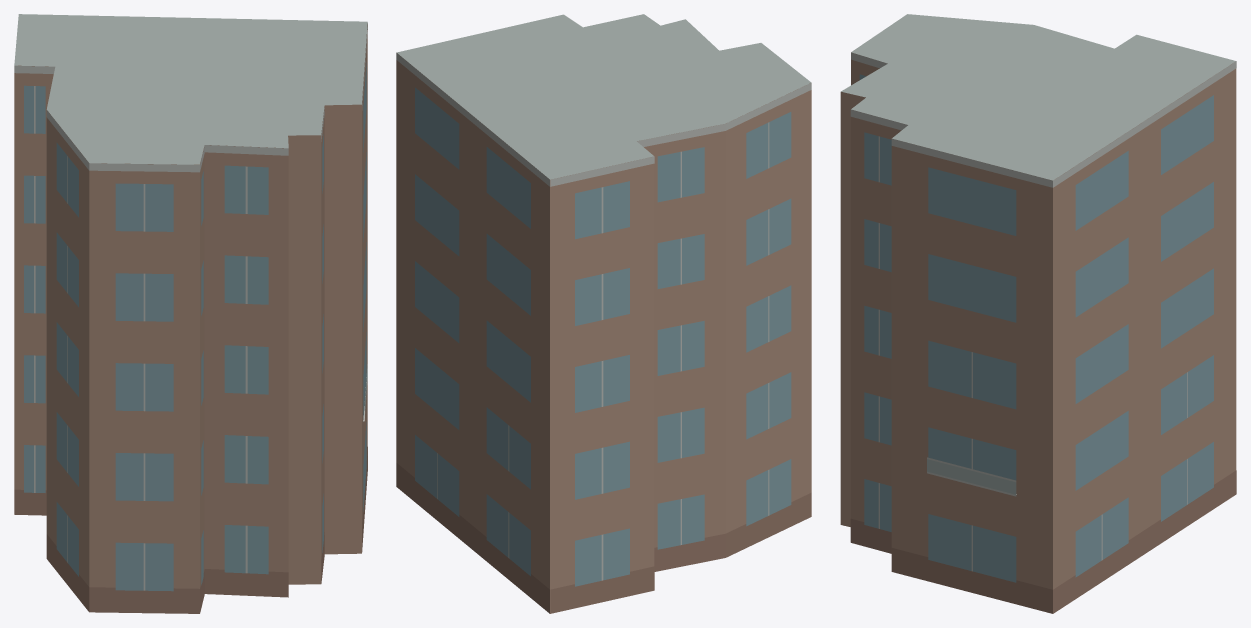
Rendered from survey-upis-32569601.glb.
3 renders of one model, left to right at view 1: azimuth 30°, elevation 25°; view 2: azimuth 150°, elevation 25°; view 3: azimuth 270°, elevation 25°, orthographic. The views are drawn at different scales.
Parts seen in each view (by area): view 1: survey-upis-32569601.tmp; view 2: survey-upis-32569601.tmp; view 3: survey-upis-32569601.tmp.
Boxes of the visible parts, <box> form: survey-upis-32569601.tmp: <box>14,14,367,613</box>; survey-upis-32569601.tmp: <box>396,14,811,613</box>; survey-upis-32569601.tmp: <box>840,14,1236,613</box>.
Bounding box in the file's own units: 12.05 × 14.6 × 12.1.
